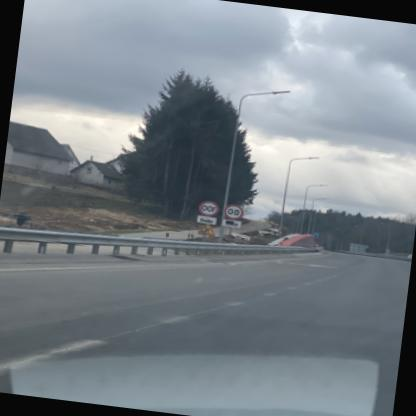speedlimit: (225, 202, 246, 219), (200, 199, 221, 216)
